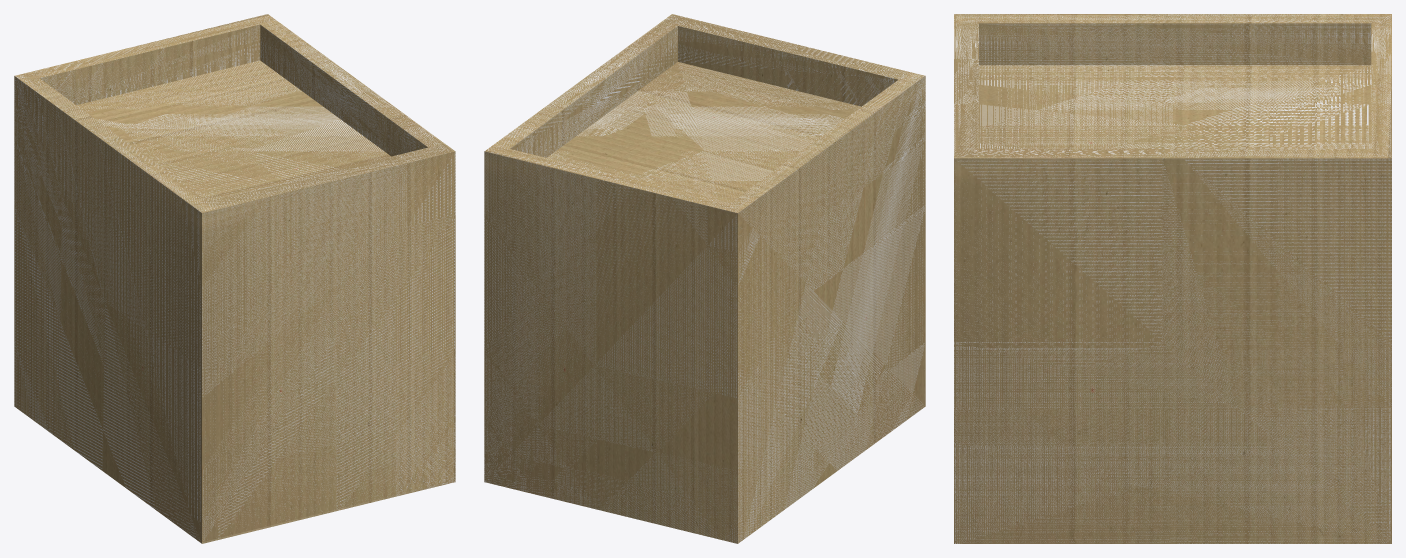
File: corrogated_box.dae
3 views of the same model, side by side, from view 1: azimuth 30°, elevation 25°; view 2: azimuth 150°, elevation 25°; view 3: azimuth 270°, elevation 25° (orthographic). The views are drawn at different scales.
Visible parts, largest first — view 1: SketchUp (×6); view 2: SketchUp (×6); view 3: SketchUp (×4).
Part boxes in pixels (x1=…): SketchUp (×6): x1=14, y1=14, x2=455, y2=543; SketchUp (×6): x1=484, y1=14, x2=925, y2=543; SketchUp (×4): x1=954, y1=14, x2=1391, y2=543.
Bounding box in the file's own units: 0.2803 × 0.3595 × 0.3496.
6 materials, 5 textured.
